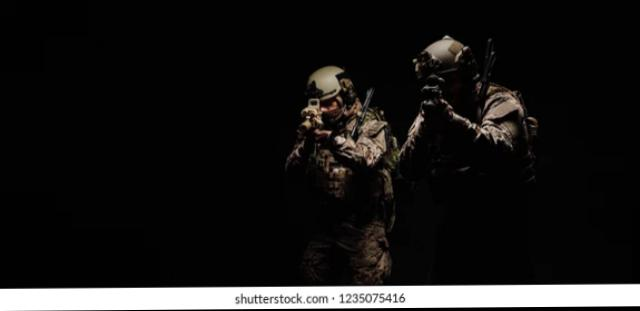other: (282, 61, 400, 284), (494, 32, 528, 132)
